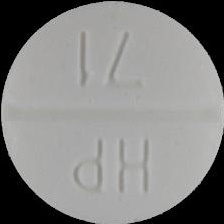23155-071: (0, 0, 224, 224)
